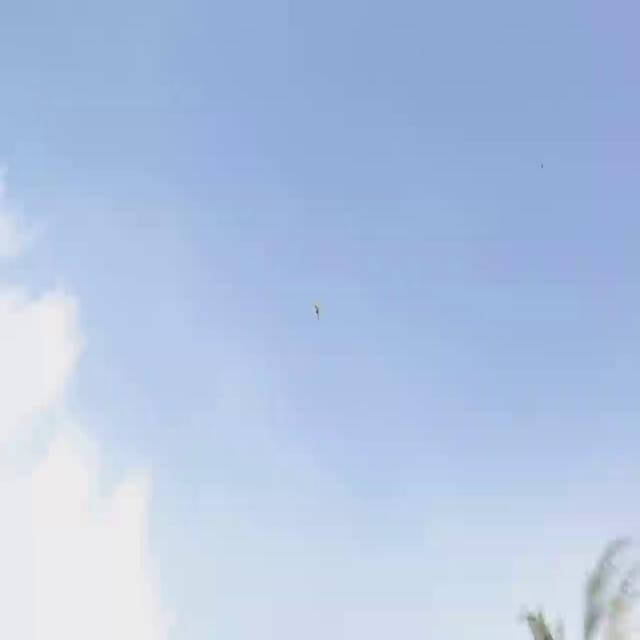drone: (308, 300, 323, 322)
